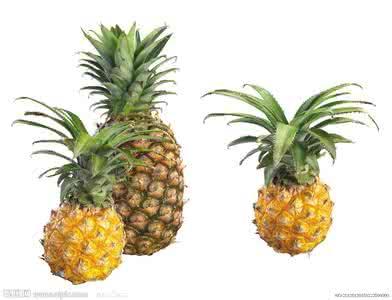apple: (79, 19, 189, 257), (27, 104, 137, 286)
pineapple: (77, 20, 186, 255), (218, 82, 340, 258), (29, 115, 135, 284)
